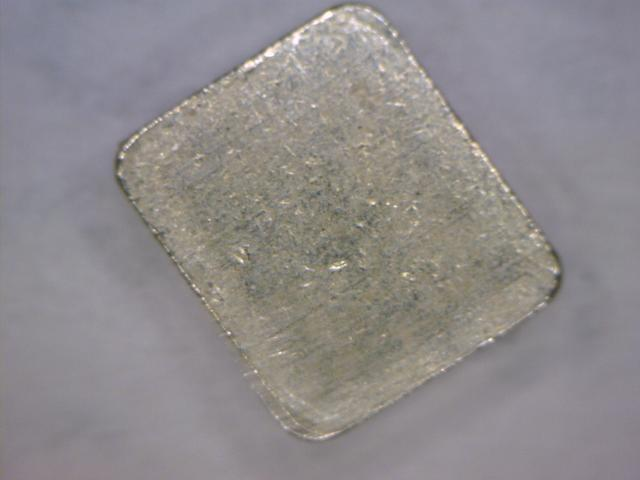ok: (111, 4, 567, 446)
